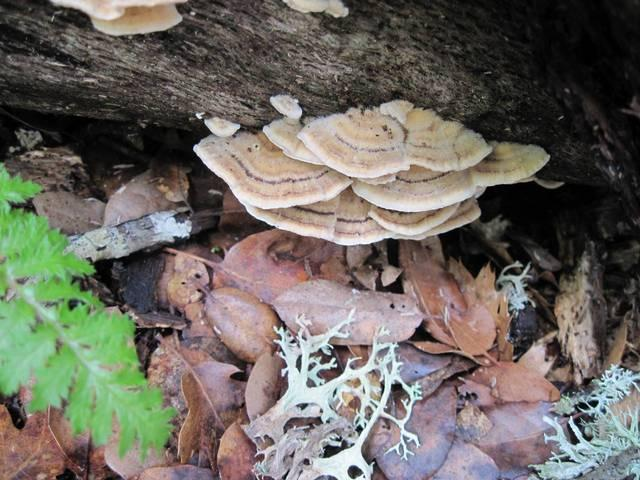Non-edible Mushroom: (191, 92, 556, 247), (42, 0, 189, 37)
